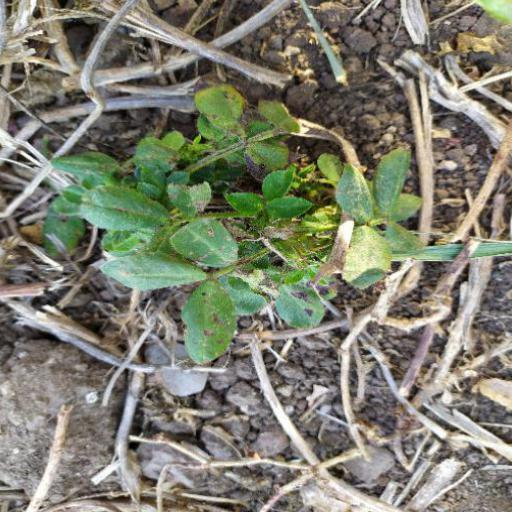weed: (39, 100, 432, 374)
